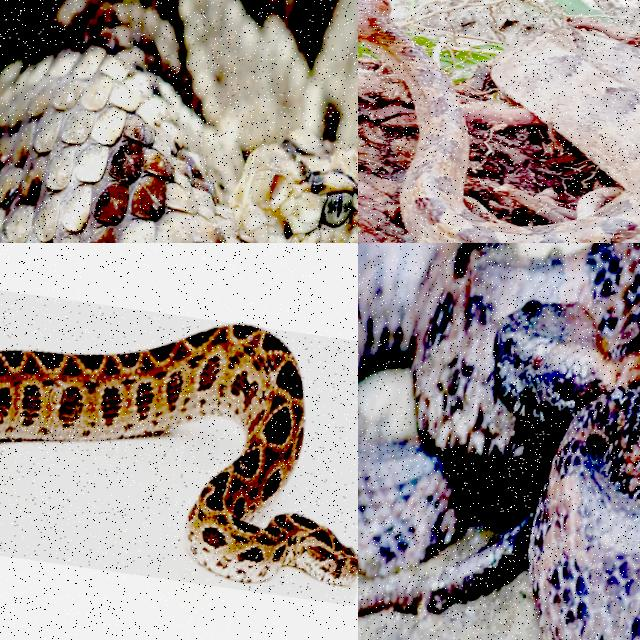Calloselasma rhodostoma: (0, 0, 357, 242), (358, 0, 639, 242)
Daboia siamensis: (0, 325, 357, 585)
Ovophis monticola: (358, 243, 639, 639)
snake: (358, 243, 639, 639), (0, 325, 357, 585), (0, 0, 357, 242), (358, 0, 639, 242)
